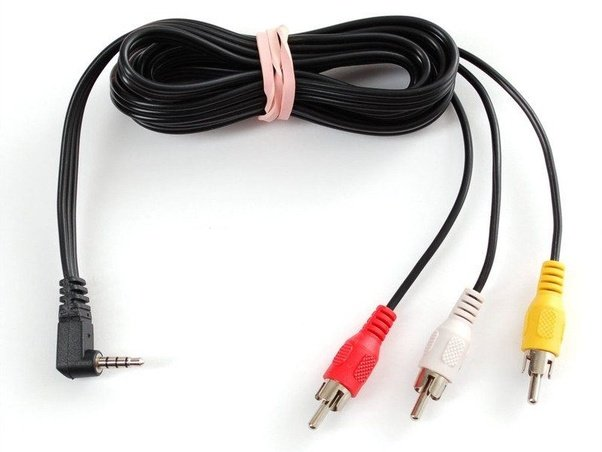Nonrec_Tangler: (25, 7, 589, 431)
